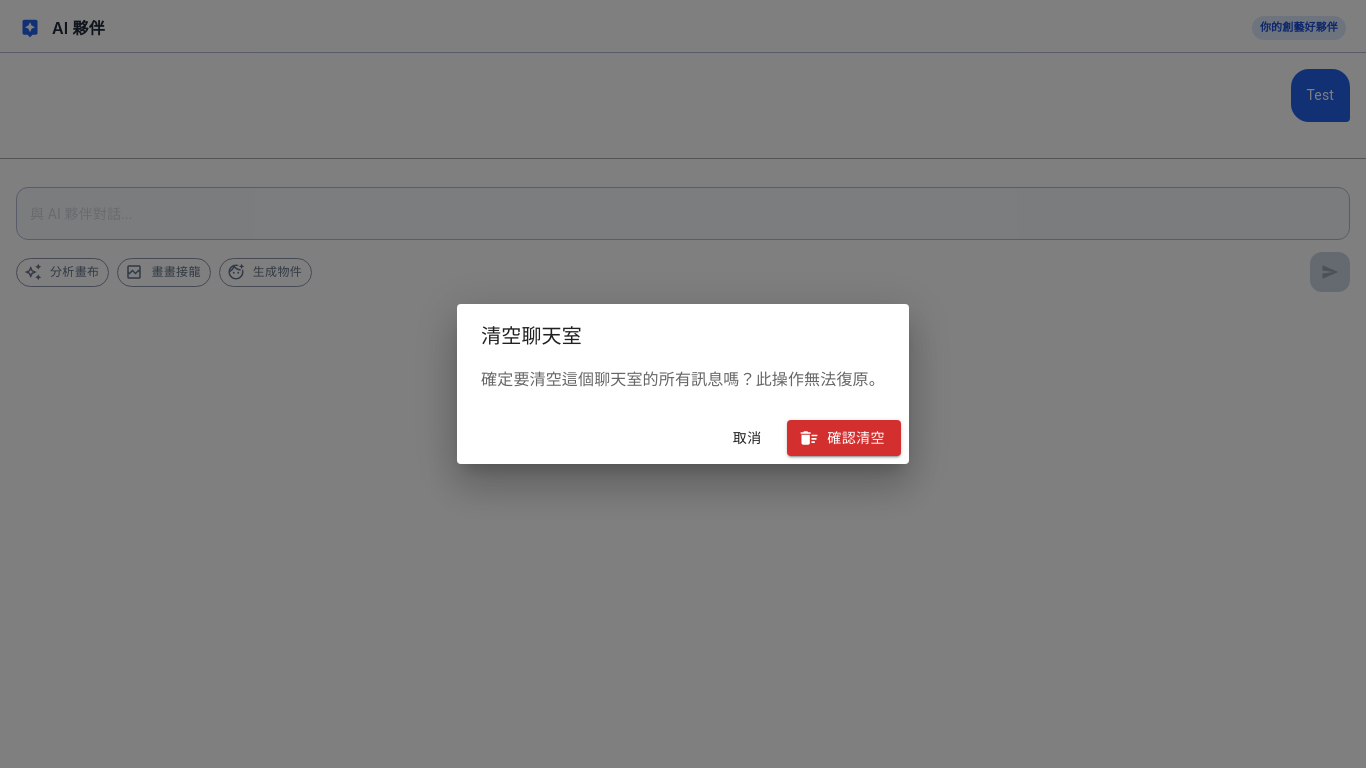
Test: ChatRoom Component › Clear Chat Functionality - Ref Method › closes dialog when cancel clicked via ref method
What coordinates should you click on to do the following:
click the button "取消"
I would click on:
 (747, 438)
Its box is [715,420,779,456].
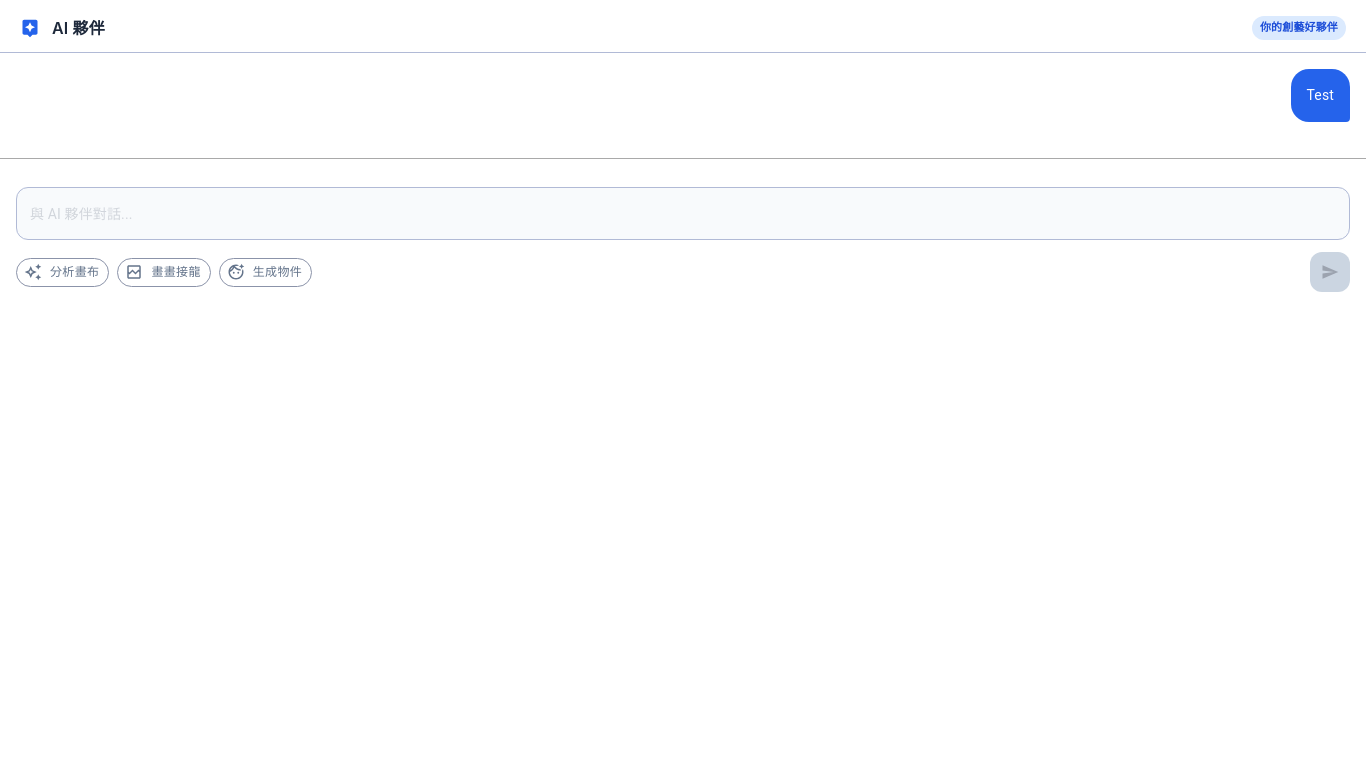
Now the text "確定要清空這個聊天室的所有訊息嗎？此操作無法復原。" is gone
